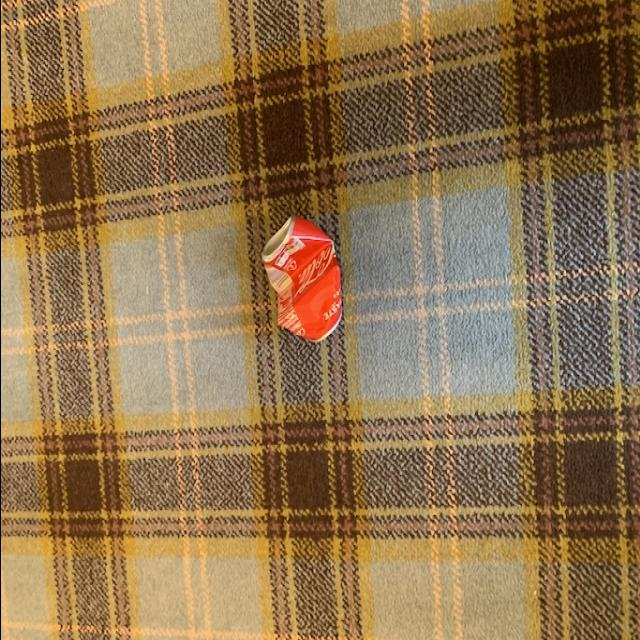Aluminum Can: (262, 211, 348, 349)
